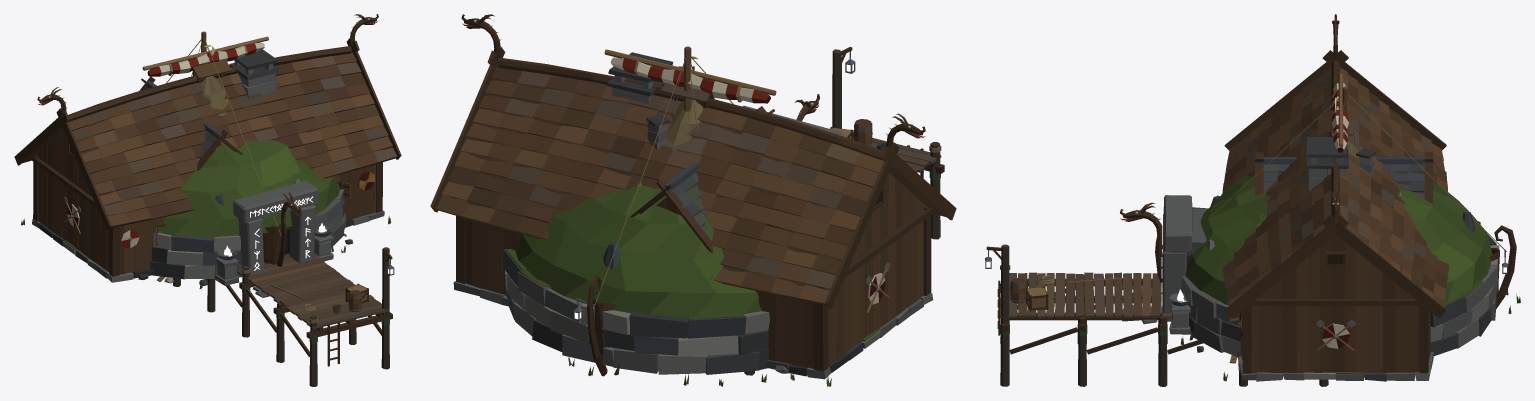
File: buildings.glb
3 views of the same model, side by side, from view 1: azimuth 30°, elevation 25°; view 2: azimuth 150°, elevation 25°; view 3: azimuth 270°, elevation 25° (orthographic). The views are drawn at different scales.
Visible parts, largest first — view 1: house_longhouse, museum_barrow, dock, longship, villager_house_a, villager_house_b; view 2: house_longhouse, museum_barrow, longship, villager_house_a, dock, villager_house_b; view 3: house_longhouse, museum_barrow, dock, villager_house_a, longship, villager_house_b.
Boxes of the visible parts, box(x1,y1,x2,y2) form: house_longhouse: box(14, 14, 401, 282); museum_barrow: box(138, 140, 353, 297); dock: box(173, 247, 394, 386); longship: box(142, 31, 346, 281); villager_house_a: box(139, 49, 278, 170); villager_house_b: box(201, 45, 228, 115); house_longhouse: box(430, 14, 956, 386); museum_barrow: box(503, 105, 843, 386); longship: box(573, 46, 819, 376); villager_house_a: box(607, 52, 774, 252); dock: box(744, 47, 944, 375); villager_house_b: box(646, 56, 702, 150); house_longhouse: box(1222, 14, 1449, 381); museum_barrow: box(1122, 176, 1520, 356); dock: box(985, 244, 1328, 386); villager_house_a: box(1255, 137, 1433, 204); longship: box(1120, 73, 1516, 363); villager_house_b: box(1299, 97, 1376, 175).
Size of the model in its own units: 13.7 by 9.11 by 15.97.
